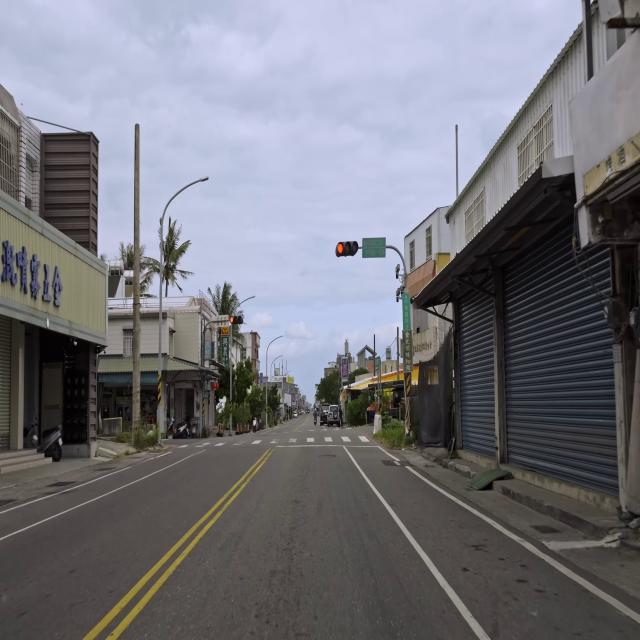red light: (336, 241, 358, 256), (229, 316, 244, 324)
